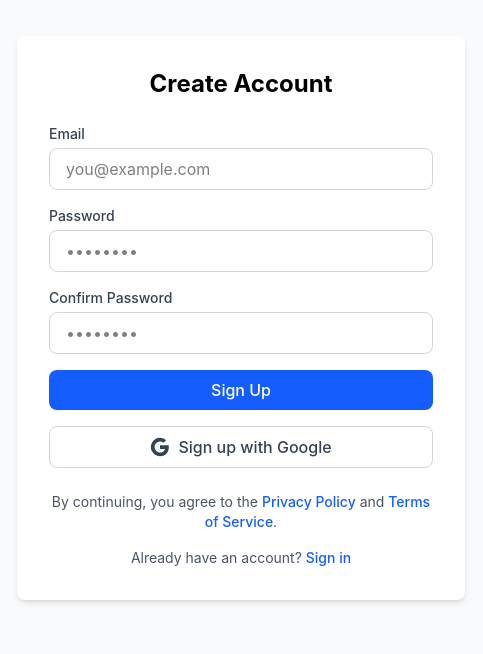
Test: Signup › displays error on failed signup
This screenshot has width=483, height=654.
In the field labelled "Email": (241, 169) [49,148,433,190], type "existing@b.com"
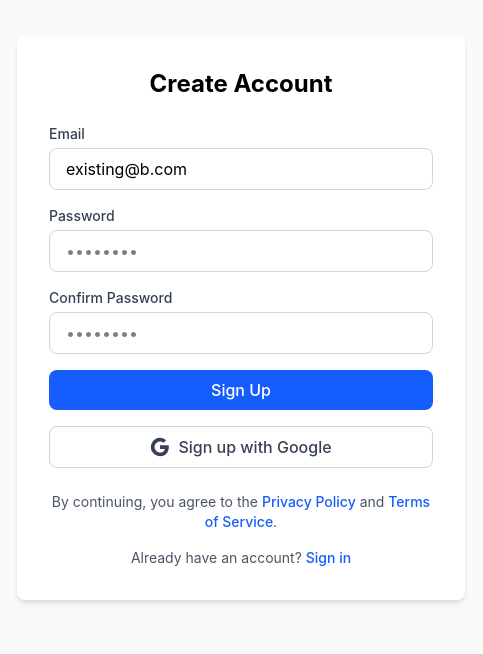
In the password field labelled "Password": (241, 251) [49,230,433,272], type "password"
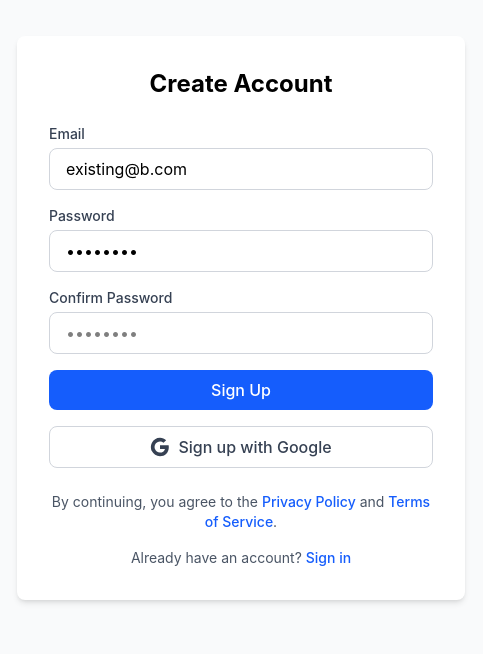
In the password field labelled "Confirm Password": (241, 333) [49,312,433,354], type "password"
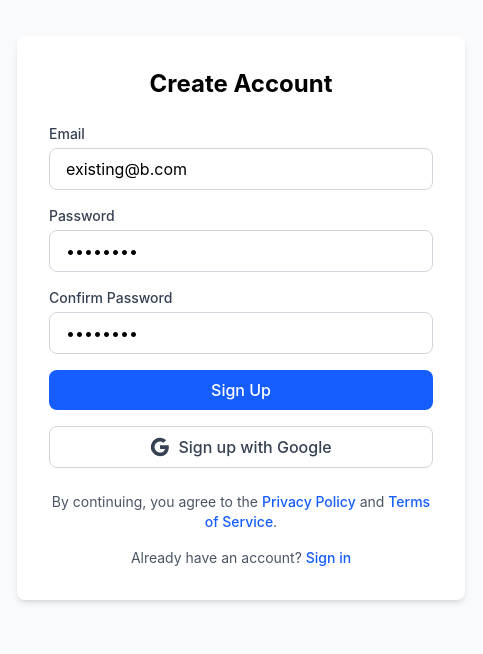
Click the button "Sign Up": (241, 390) [49,370,433,410]
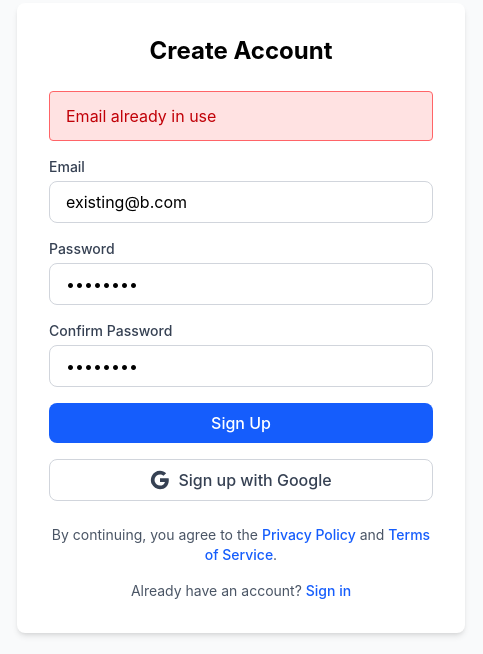
expect the text "Email already in use" is shown: met, box [49,91,433,141]
